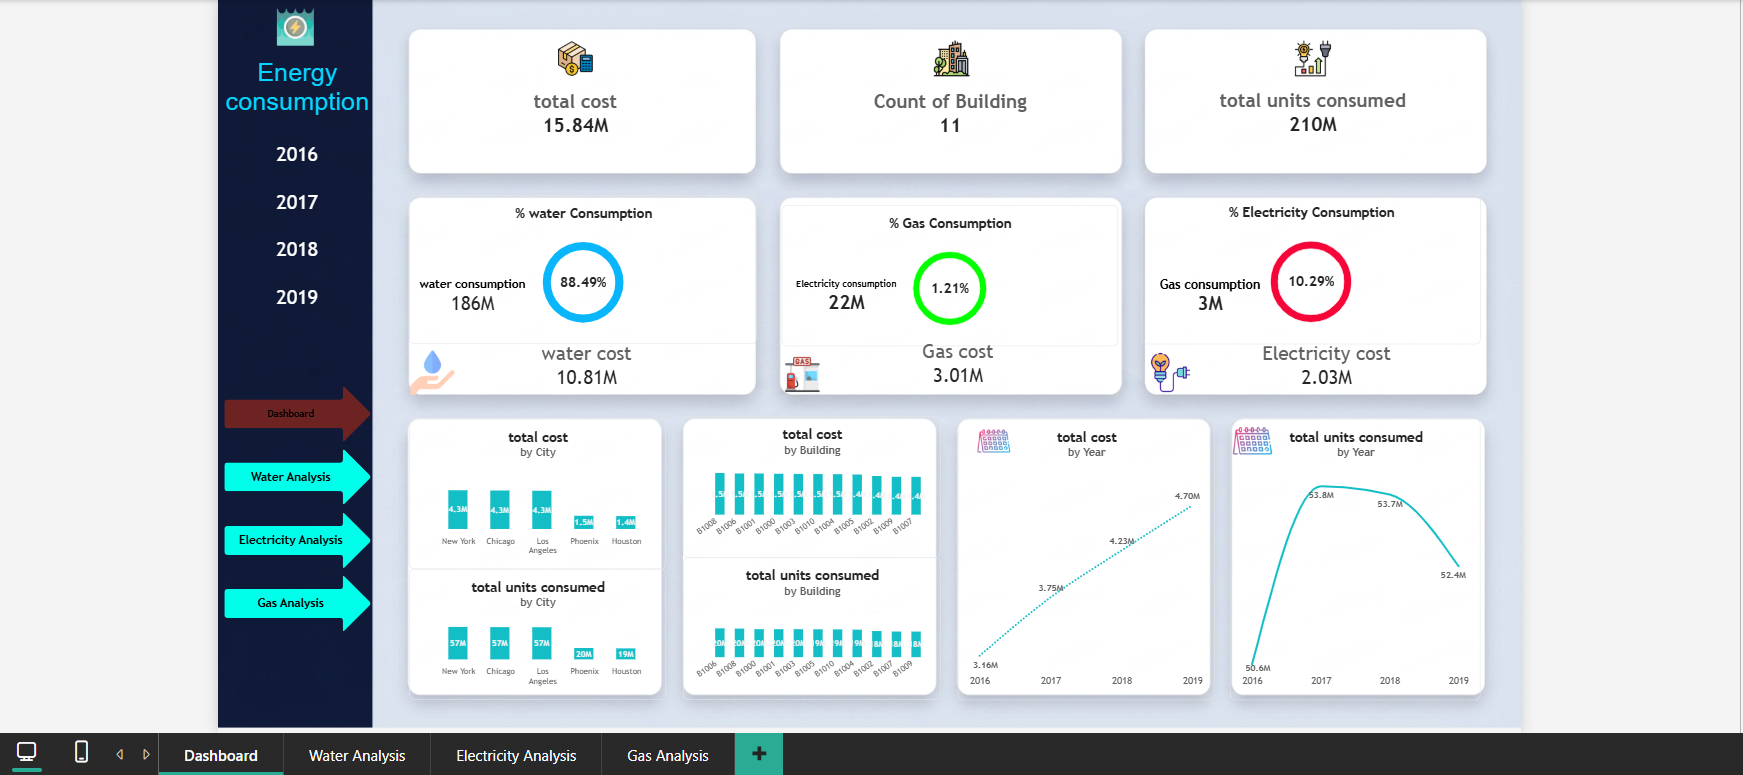

What the dashboard file says about the page in this screenshot:
{"tool":"powerbi","page":{"name":"Dashboard ","canvas":[1920,1080],"ordinal":0},"visuals":[{"type":"cardVisual","fields":{"Data":["KPIS.total cost"]},"box":[300.5,86.7,452.6,163.7],"z":0},{"type":"cardVisual","fields":{"Data":["Count(Energy Consumptions.Building)"]},"box":[852.4,86.9,452.6,163.7],"z":1000},{"type":"cardVisual","fields":{"Data":["KPIS.total units consumed"]},"box":[1386.2,85.1,452.6,163.7],"z":2000},{"type":"donutChart","fields":{"Y":["KPIS.% water Consumption"]},"box":[281.2,287,512.4,219.6],"z":3000},{"type":"donutChart","fields":{"Y":["KPIS.% Gas Consumption"]},"box":[830.2,302.4,495,208],"z":4000},{"type":"donutChart","fields":{"Y":["KPIS.% Electricity Consumption"]},"box":[1359.9,285.1,498.9,221.5],"z":5000},{"type":"cardVisual","fields":{"Data":["KPIS.water cost"]},"box":[400.6,510.4,283.1,59.7],"z":6000},{"type":"advancedSlicerVisual","fields":{"Values":["Rates.Year"]},"box":[16.3,195.4,200.3,279.3],"z":7000},{"type":"cardVisual","fields":{"Data":["KPIS.Gas cost"]},"box":[947.7,506.6,283.1,59.7],"z":8000},{"type":"cardVisual","fields":{"Data":["KPIS.Electricity cost"]},"box":[1490.9,510.4,283.1,59.7],"z":9000},{"type":"clusteredColumnChart","fields":{"Category":["Building Master.City"],"Y":["KPIS.total cost"]},"box":[281.2,616.4,377.5,221.5],"z":10000},{"type":"clusteredColumnChart","fields":{"Category":["Building Master.City"],"Y":["KPIS.total units consumed"]},"box":[281.2,837.9,377.5,192.6],"z":11000},{"type":"clusteredColumnChart","fields":{"Category":["Building Master.Building"],"Y":["KPIS.total units consumed"]},"box":[683.8,820.5,379.5,210],"z":12000},{"type":"lineChart","fields":{"Category":["Rates.Year"],"Y":["KPIS.total units consumed"]},"box":[1490.9,616.4,367.9,414.1],"z":13000},{"type":"clusteredColumnChart","fields":{"Category":["Building Master.Building"],"Y":["KPIS.total cost"]},"box":[683.8,612.5,379.5,208],"z":14000},{"type":"lineChart","fields":{"Category":["Rates.Year"],"Y":["KPIS.total cost"]},"box":[1090.2,616.4,377.5,414.1],"z":15000},{"type":"textbox","box":[9,85.1,215.3,128.5],"z":16000},{"type":"image","box":[50.7,12.7,124.9,54.3],"z":17000},{"type":"image","box":[463.3,59.7,124.9,54.3],"z":18000},{"type":"image","box":[1371.7,515.8,63.3,67],"z":19000},{"type":"image","box":[284.1,515.8,65.1,67],"z":20000},{"type":"image","box":[1017,59.7,124.9,54.3],"z":21000},{"type":"image","box":[1549.1,59.7,124.9,54.3],"z":22000},{"type":"image","box":[812.5,524.8,97.7,54.3],"z":23000},{"type":"image","box":[1100.3,622.5,83.2,54.3],"z":24000},{"type":"image","box":[1491.2,617.1,65.1,65.1],"z":25000},{"type":"pageNavigator","box":[9,566.4,217.2,367.4],"z":26000},{"type":"cardVisual","fields":{"Data":["KPIS.water consumption"]},"box":[280.5,356.5,190,159.3],"z":27000},{"type":"cardVisual","fields":{"Data":["KPIS.Gas consumption"]},"box":[1366.3,356.5,190,159.3],"z":28000},{"type":"cardVisual","fields":{"Data":["KPIS.Electricity consumption"]},"box":[830.6,356.5,190,159.3],"z":29000}]}

Visuals, with their boxes on the page's 1920x1080 design canvas (x1, y1, x2, y2). These are canvas units, not pixel positions in the 1743x775 screenshot, which may show the page scaled, cropped or inside an application window:
cardVisual - KPIS.total cost: box(300, 87, 753, 250)
cardVisual - Count(Energy Consumptions.Building): box(852, 87, 1305, 251)
cardVisual - KPIS.total units consumed: box(1386, 85, 1839, 249)
donutChart - KPIS.% water Consumption: box(281, 287, 794, 507)
donutChart - KPIS.% Gas Consumption: box(830, 302, 1325, 510)
donutChart - KPIS.% Electricity Consumption: box(1360, 285, 1859, 507)
cardVisual - KPIS.water cost: box(401, 510, 684, 570)
advancedSlicerVisual - Rates.Year: box(16, 195, 217, 475)
cardVisual - KPIS.Gas cost: box(948, 507, 1231, 566)
cardVisual - KPIS.Electricity cost: box(1491, 510, 1774, 570)
clusteredColumnChart - Building Master.City x KPIS.total cost: box(281, 616, 659, 838)
clusteredColumnChart - Building Master.City x KPIS.total units consumed: box(281, 838, 659, 1030)
clusteredColumnChart - Building Master.Building x KPIS.total units consumed: box(684, 820, 1063, 1030)
lineChart - Rates.Year x KPIS.total units consumed: box(1491, 616, 1859, 1030)
clusteredColumnChart - Building Master.Building x KPIS.total cost: box(684, 612, 1063, 820)
lineChart - Rates.Year x KPIS.total cost: box(1090, 616, 1468, 1030)
textbox: box(9, 85, 224, 214)
image: box(51, 13, 176, 67)
image: box(463, 60, 588, 114)
image: box(1372, 516, 1435, 583)
image: box(284, 516, 349, 583)
image: box(1017, 60, 1142, 114)
image: box(1549, 60, 1674, 114)
image: box(812, 525, 910, 579)
image: box(1100, 622, 1184, 677)
image: box(1491, 617, 1556, 682)
pageNavigator: box(9, 566, 226, 934)
cardVisual - KPIS.water consumption: box(280, 356, 470, 516)
cardVisual - KPIS.Gas consumption: box(1366, 356, 1556, 516)
cardVisual - KPIS.Electricity consumption: box(831, 356, 1021, 516)
